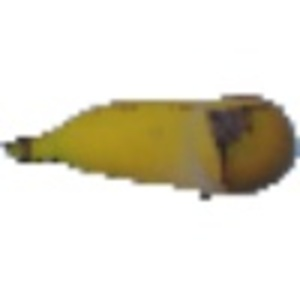banana: (5, 80, 297, 200)
